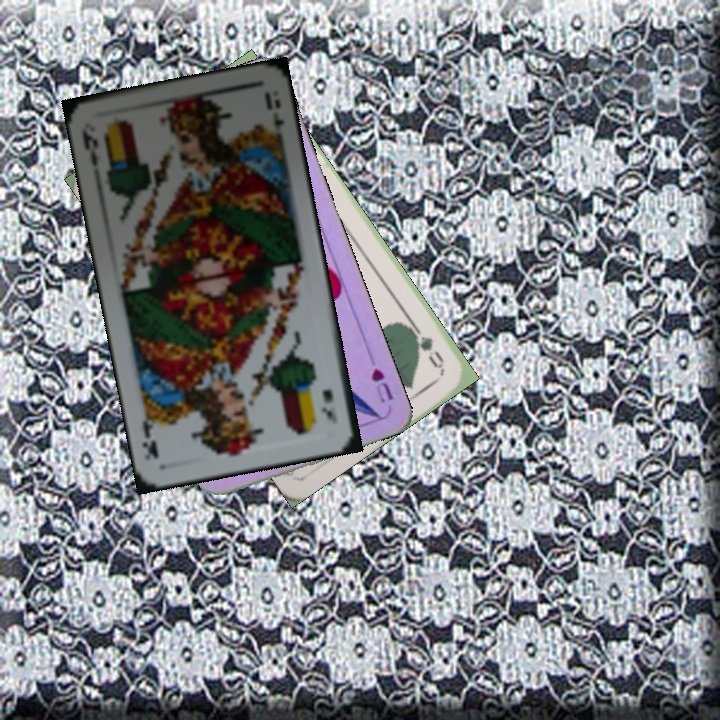EK: (317, 385, 341, 427), (78, 126, 101, 169)
GO: (403, 320, 447, 373)
HU: (367, 363, 396, 406)
